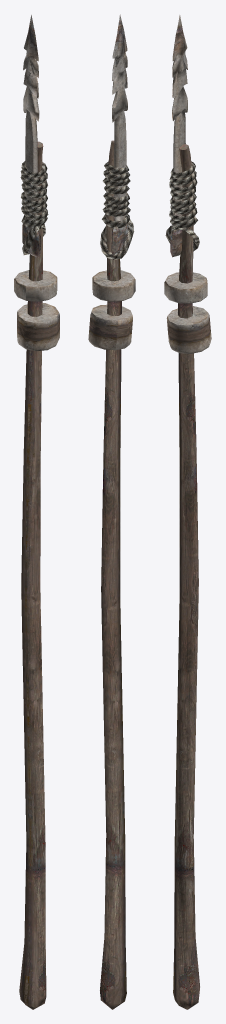
Rendered from harpoon_1.obj.
The picture shows the model from 3 angles, left to right: view 1: azimuth 30°, elevation 25°; view 2: azimuth 150°, elevation 25°; view 3: azimuth 330°, elevation 25°; orthographic projection.
Parts seen in each view (by area): view 1: harpoon_1; view 2: harpoon_1; view 3: harpoon_1.
Part boxes in pixels (x1,y1,x2,y2): harpoon_1: [14, 15, 59, 1009]; harpoon_1: [88, 14, 135, 1009]; harpoon_1: [164, 15, 211, 1009].
Bounding box in the file's own units: 4.36 × 102 × 4.15.
